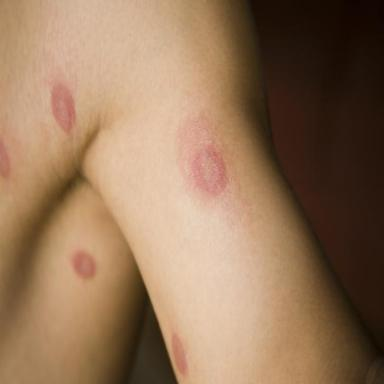Tinea-Corporis: (191, 137, 227, 198), (51, 84, 76, 133), (72, 250, 96, 280), (172, 333, 187, 375), (0, 138, 10, 176)
